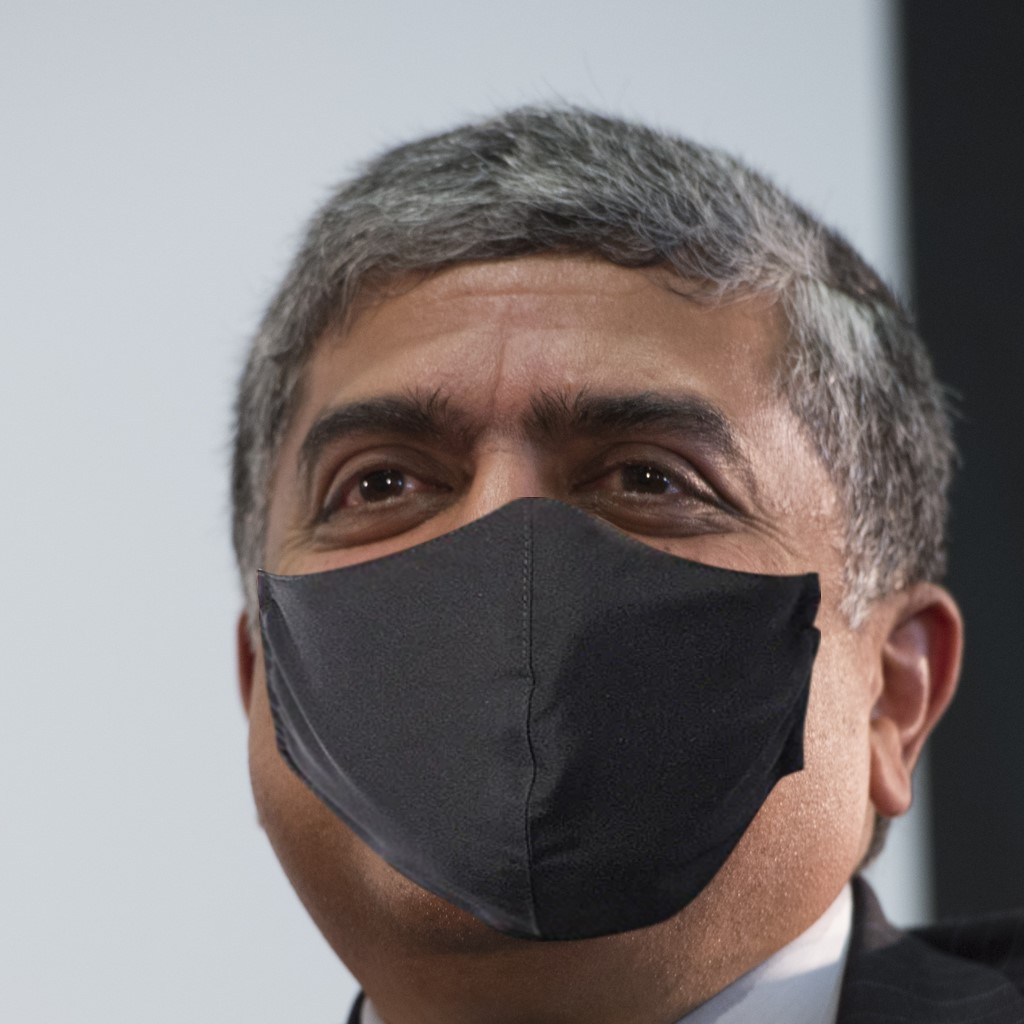con_mascara: (252, 223, 886, 967)
